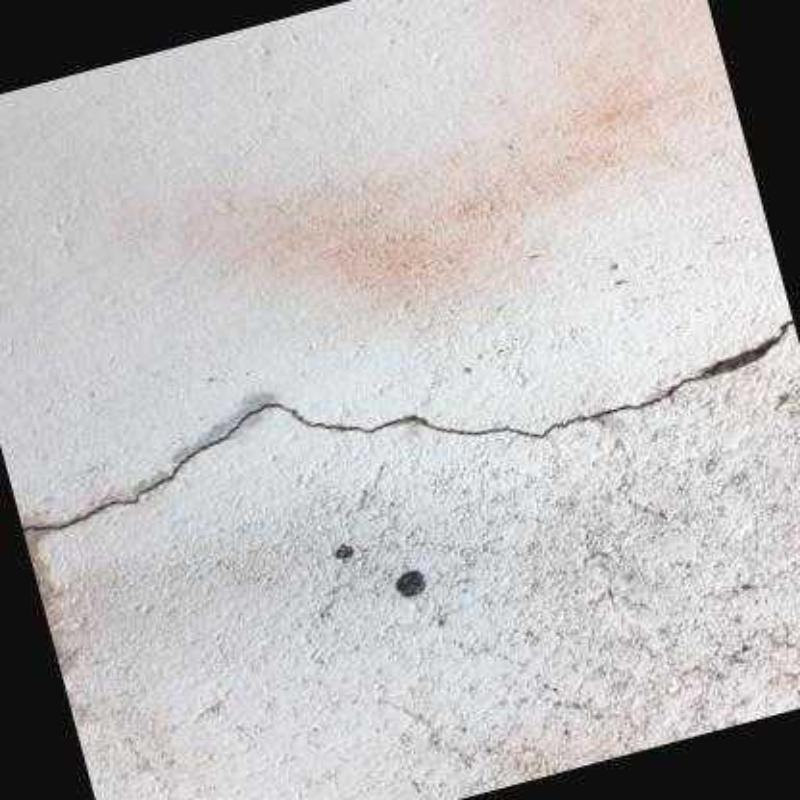pothole: (23, 320, 794, 532)
